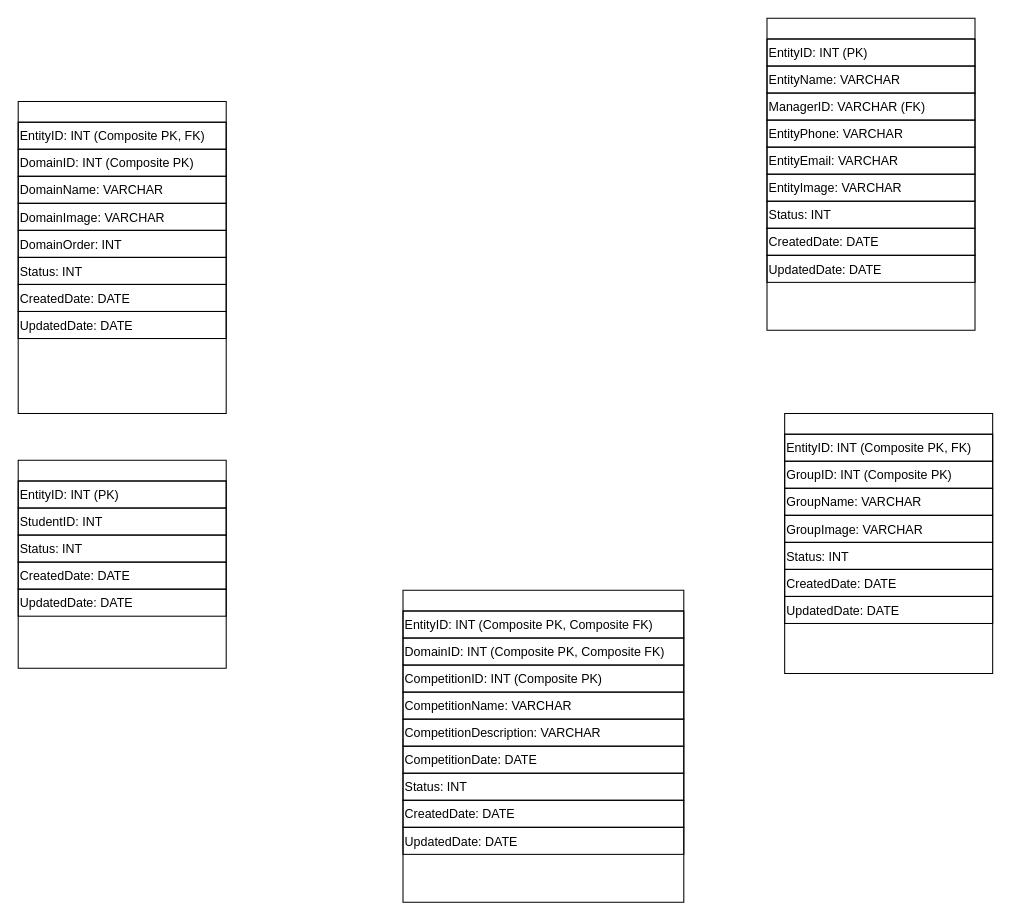
This 1011x920 diagram has some shape labels left out. The box of each missing label's shape, as (x1, y1, x2, y2) in pixels:
Competition Table: (402, 589, 684, 902)
Domain Table: (17, 100, 226, 413)
Entity Table: (766, 17, 975, 330)
EntityStudent Table: (17, 459, 226, 668)
Group Table: (784, 412, 993, 673)
